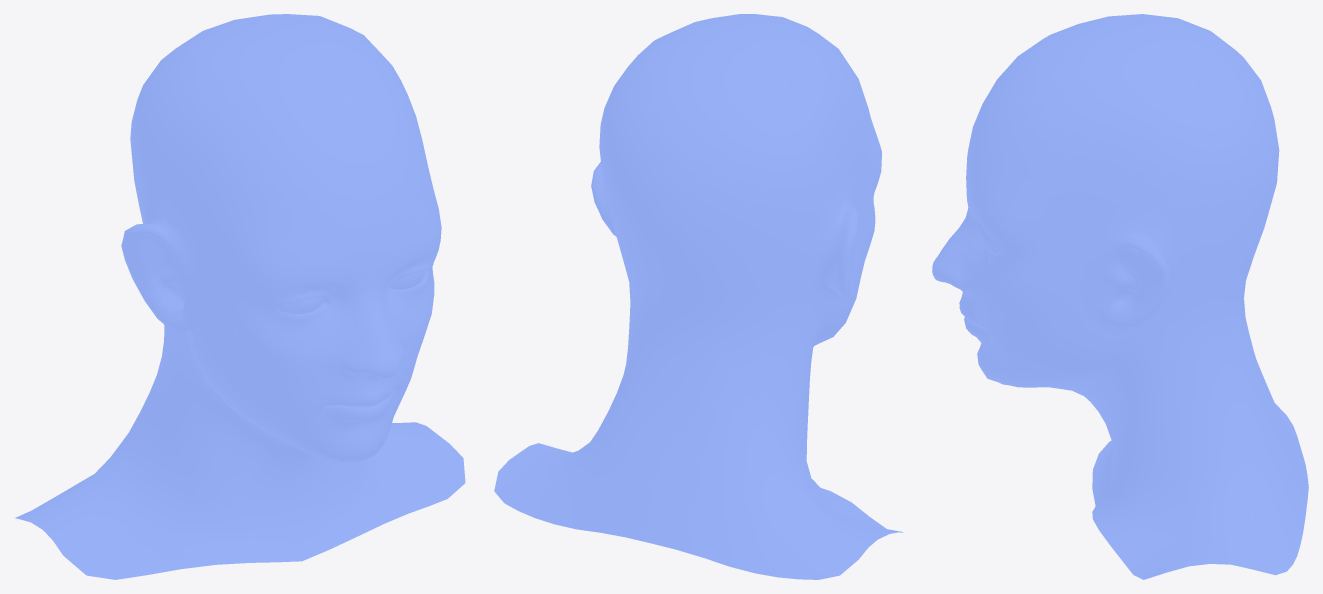
Rendered from SVRAvatarHead.fbx.
3 views of the same model, side by side, from view 1: azimuth 30°, elevation 25°; view 2: azimuth 150°, elevation 25°; view 3: azimuth 270°, elevation 25° (orthographic). The views are drawn at different scales.
Visible parts, largest first — view 1: SVRAvatarHead; view 2: SVRAvatarHead; view 3: SVRAvatarHead.
Part boxes in pixels (x1=…): SVRAvatarHead: x1=15, y1=14, x2=465, y2=579; SVRAvatarHead: x1=494, y1=14, x2=902, y2=579; SVRAvatarHead: x1=932, y1=14, x2=1308, y2=579.
Size of the model in its own units: 0.2699 by 0.3315 by 0.2379.
